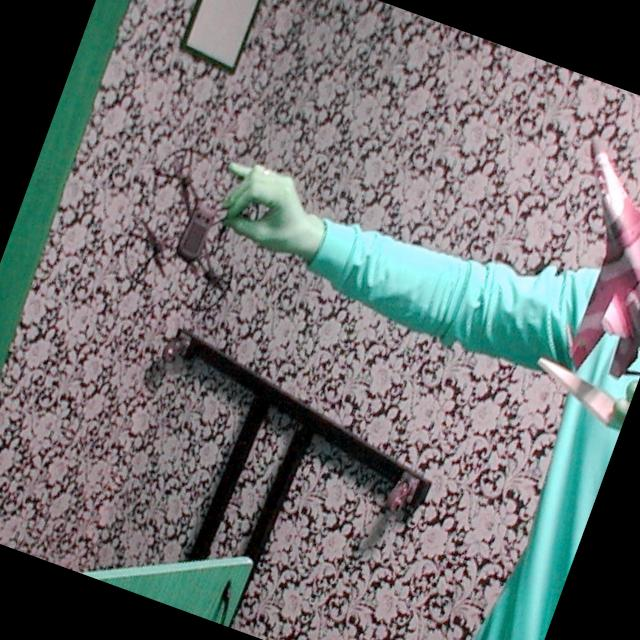drone: (100, 118, 287, 334)
